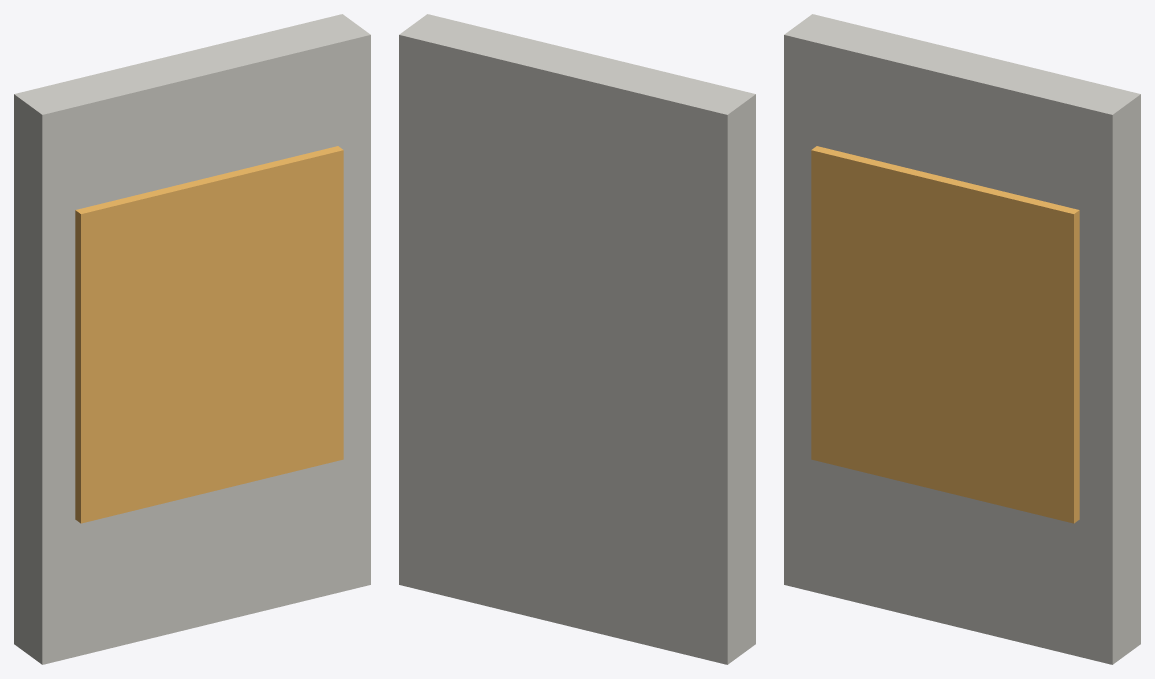
File: seed_packet_carrot.glb
3 views of the same model, side by side, from view 1: azimuth 30°, elevation 25°; view 2: azimuth 150°, elevation 25°; view 3: azimuth 330°, elevation 25° (orthographic).
Visible parts, largest first — view 1: SeedPacketCarrot; view 2: SeedPacketCarrot; view 3: SeedPacketCarrot.
Boxes of the visible parts, x1,y1,x2,y2 form: SeedPacketCarrot: [14, 14, 370, 664]; SeedPacketCarrot: [399, 14, 755, 664]; SeedPacketCarrot: [784, 14, 1140, 664].
Bounding box in the file's own units: 0.1 × 0.16 × 0.018.
